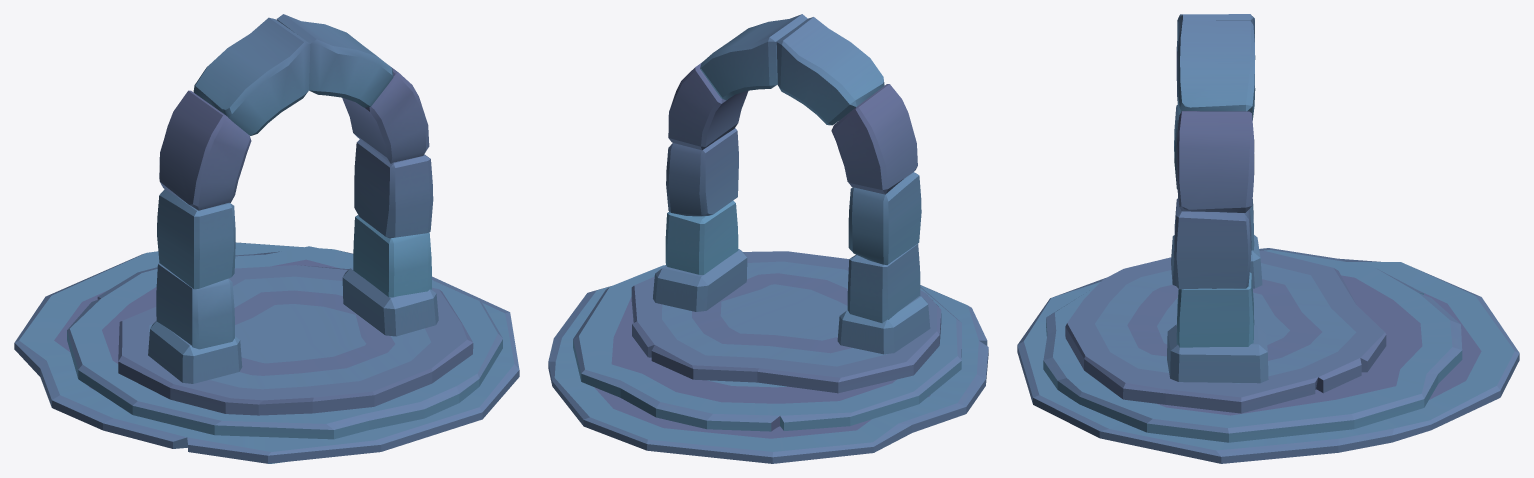
File: obj_IcePortal.fbx
The picture shows the model from 3 angles, left to right: view 1: azimuth 30°, elevation 25°; view 2: azimuth 150°, elevation 25°; view 3: azimuth 270°, elevation 25°; orthographic projection. The views are drawn at different scales.
Visible parts, largest first — view 1: obj_IcePortal; view 2: obj_IcePortal; view 3: obj_IcePortal.
Boxes of the visible parts, left/top/right/bottom form: obj_IcePortal: left=14, top=14, right=519, bottom=463; obj_IcePortal: left=548, top=14, right=988, bottom=463; obj_IcePortal: left=1017, top=14, right=1519, bottom=463.
Size of the model in its own units: 1540 by 1194 by 1567.
